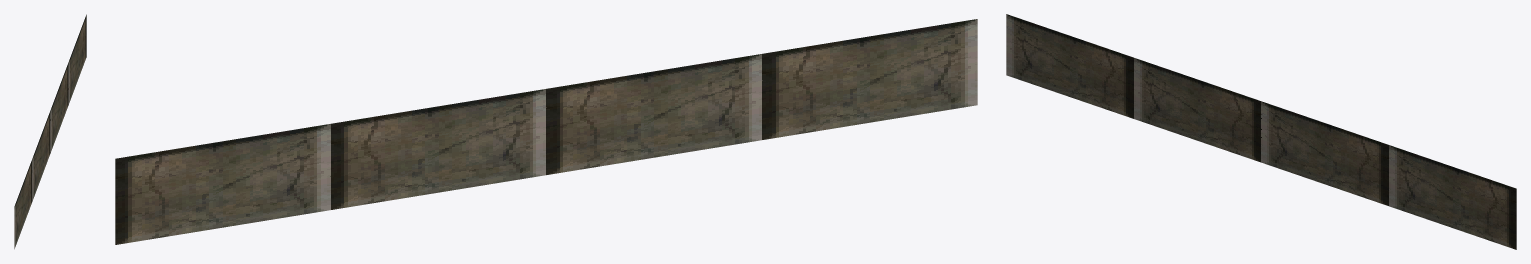
Rendered from CH09_SMAUG_PLAYSURFACE_LAIR48.fbx.
3 views of the same model, side by side, from view 1: azimuth 30°, elevation 25°; view 2: azimuth 150°, elevation 25°; view 3: azimuth 270°, elevation 25° (orthographic). The views are drawn at different scales.
Visible parts, largest first — view 1: CH09_SMAUG_PLAYSURFACE_LAIR48; view 2: CH09_SMAUG_PLAYSURFACE_LAIR48; view 3: CH09_SMAUG_PLAYSURFACE_LAIR48.
Part boxes in pixels (<box>): CH09_SMAUG_PLAYSURFACE_LAIR48: <box>14,14,86,249</box>; CH09_SMAUG_PLAYSURFACE_LAIR48: <box>115,19,977,244</box>; CH09_SMAUG_PLAYSURFACE_LAIR48: <box>1006,14,1516,249</box>.
Bounding box in the file's own units: 37258 × 6106 × 45999.
Materials: 1 (1 with a texture image).
